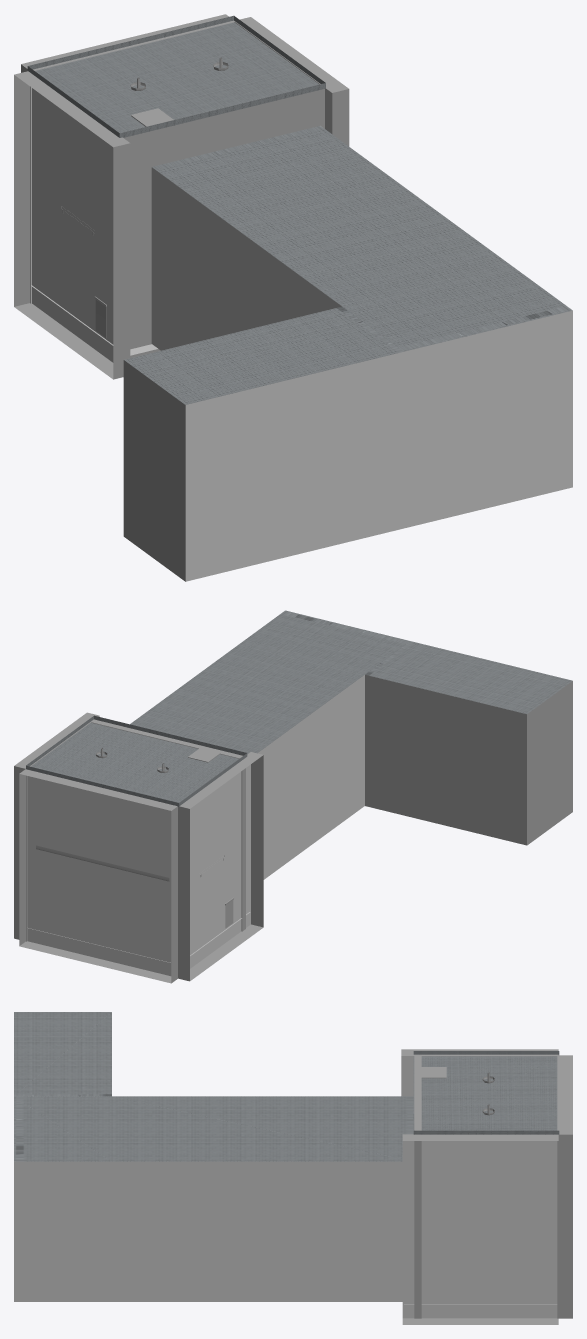
The model's file is full_kitchen1_22.fbx.
The picture shows the model from 3 angles, top to bottom: view 1: azimuth 30°, elevation 25°; view 2: azimuth 150°, elevation 25°; view 3: azimuth 270°, elevation 25°; orthographic projection. The views are drawn at different scales.
Parts seen in each view (by area): view 1: pCube196, pCube6, pCube12, pCube4, pCube5, pCube3; view 2: pCube196, pCube3, pCube6, pCube12, pCube5, pCube4, pCube186; view 3: pCube196, pCube5, pCube12, pCube3, pCube4, pCube6.
Boxes of the visible parts, box(x1,y1,x2,y2) form: pCube196: box(123, 125, 572, 581); pCube6: box(14, 71, 130, 379); pCube12: box(27, 15, 325, 137); pCube4: box(124, 89, 324, 357); pCube5: box(234, 17, 349, 146); pCube3: box(21, 14, 234, 303); pCube196: box(130, 610, 572, 879); pCube3: box(19, 769, 177, 983); pCube6: box(178, 752, 263, 981); pCube12: box(26, 715, 247, 806); pCube5: box(14, 712, 99, 941); pCube4: box(91, 719, 245, 931); pCube186: box(36, 845, 169, 881); pCube196: box(14, 1012, 413, 1301); pCube5: box(402, 1134, 558, 1324); pCube12: box(413, 1051, 559, 1134); pCube3: box(557, 1055, 572, 1318); pCube4: box(414, 1055, 421, 1318); pCube6: box(401, 1049, 558, 1096).
Bounding box in the file's own units: 7.3 × 4.12 × 10.9.
